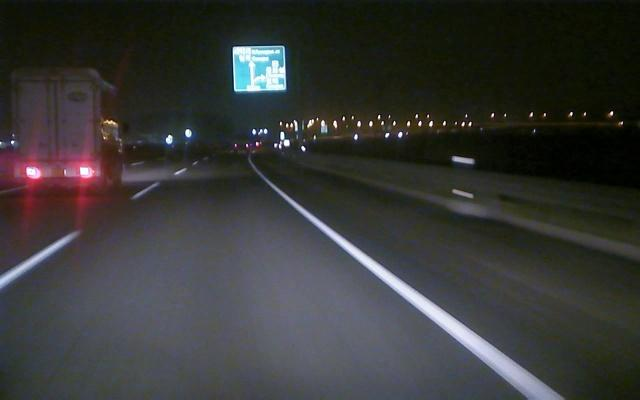lane: (270, 184, 566, 399), (1, 180, 163, 289)
